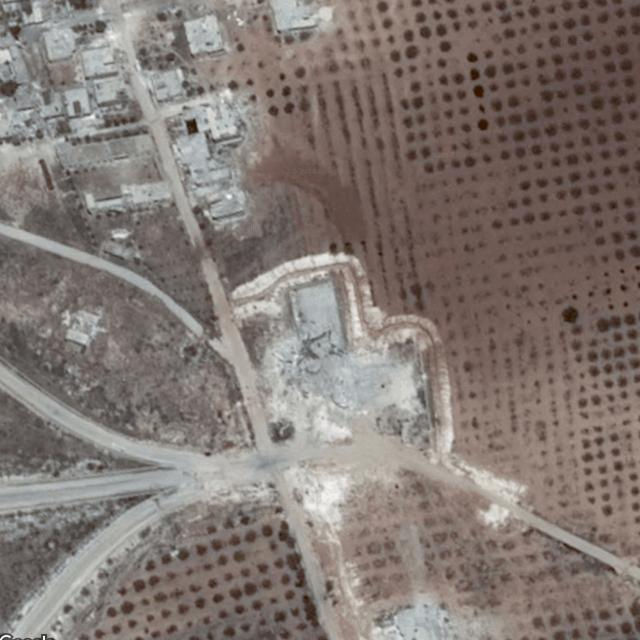damaged_building: (257, 326, 387, 441)
